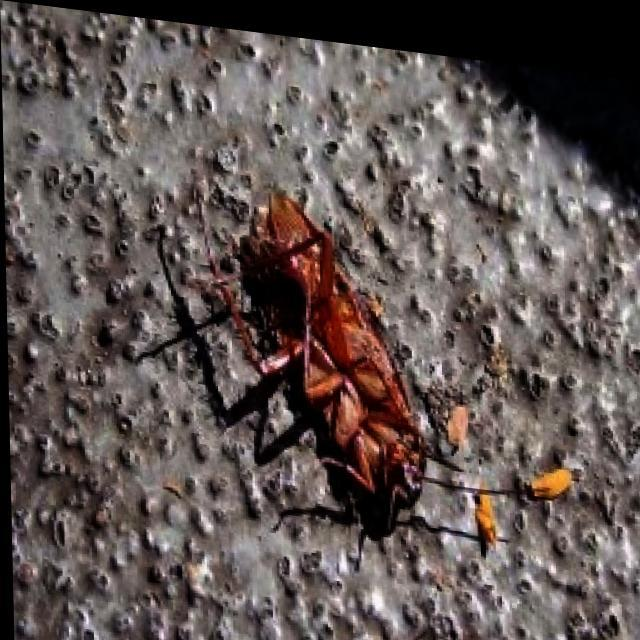cockroach: (235, 189, 429, 497)
